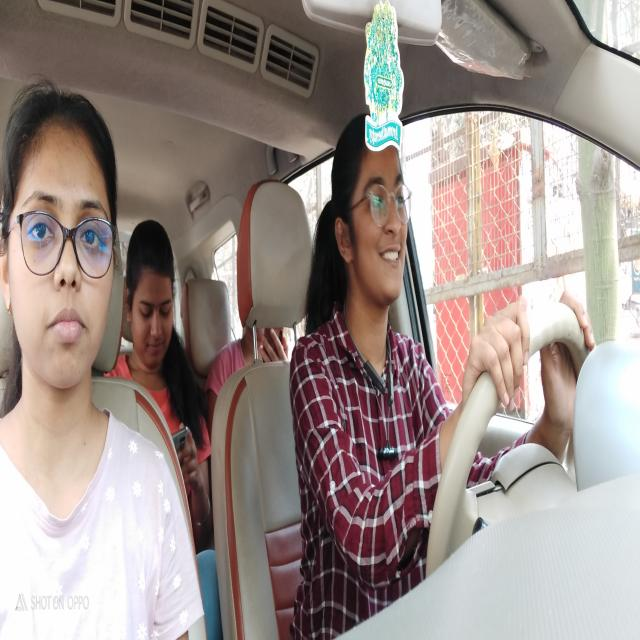person: (4, 85, 120, 412), (334, 110, 414, 305), (125, 214, 180, 377)
